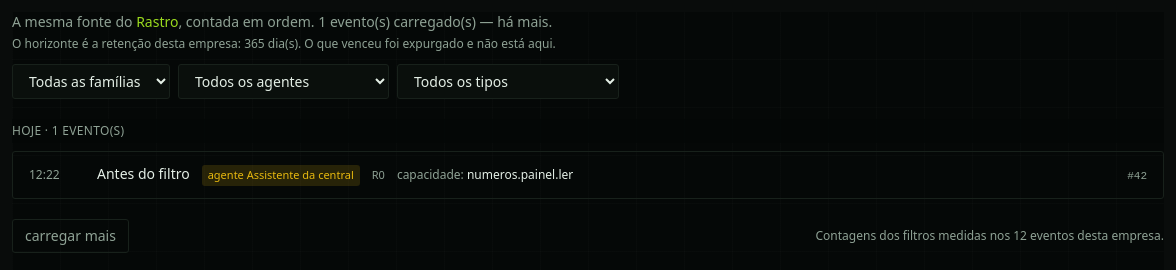
it: A9: pagina por cursor e filtra sem misturar recortes › trocar o filtro recomeça a lista, sem cursor e sem mistura
Check: the text "Antes do filtro" is shown, box [97,164,190,184]
Select "Ferramentas (12)" in the dropdown named "Família de evento" at x=91, y=82, box [12,64,170,99]
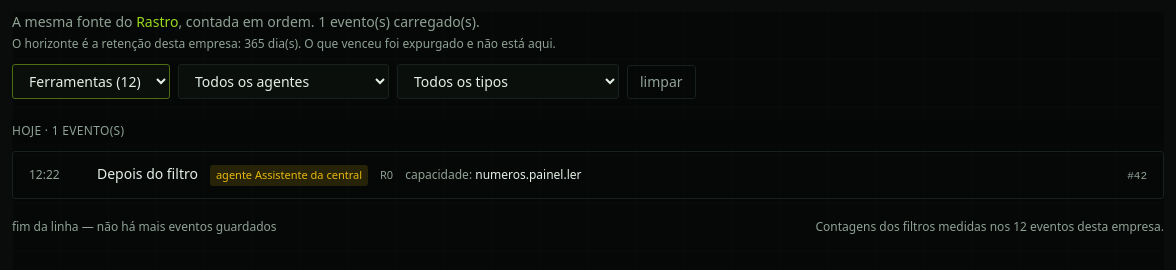
Check: the text "Depois do filtro" is shown, box [97,164,198,184]
Check: the text "Antes do filtro" is gone
